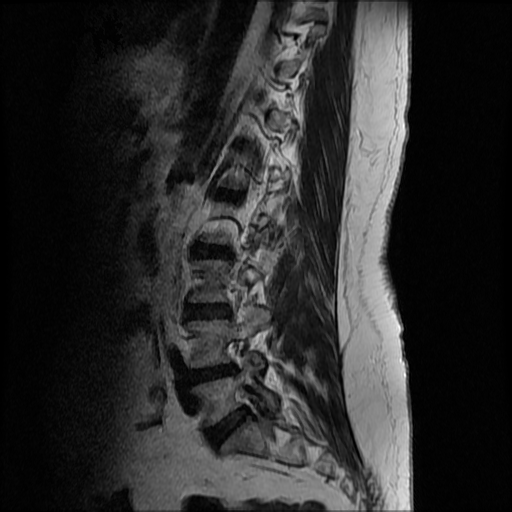LFS0: (216, 329, 251, 380)
